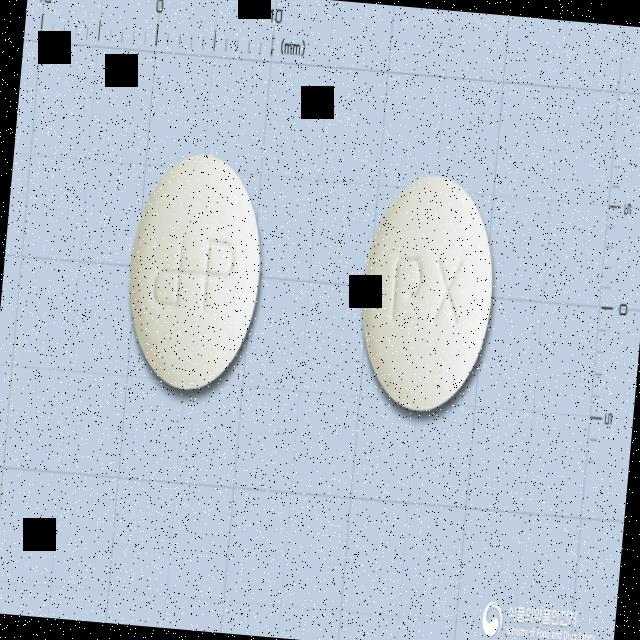Proxco Tab: (119, 147, 271, 396), (352, 168, 503, 416)
